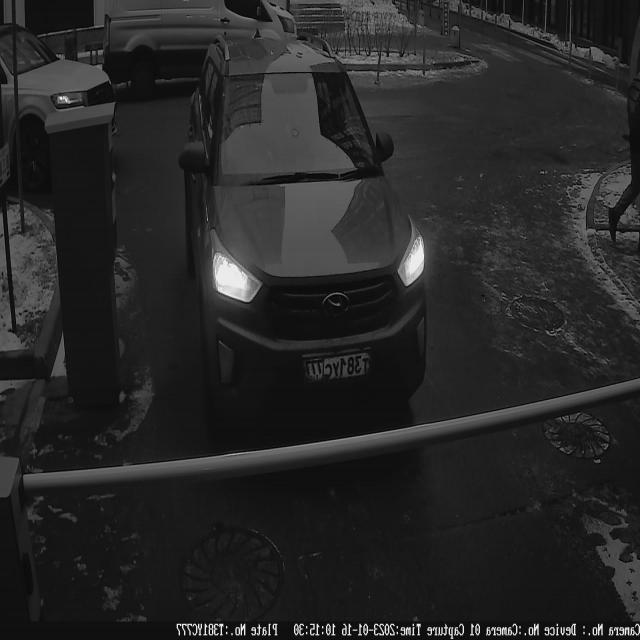car-plate-numbers: (299, 341, 375, 390)
